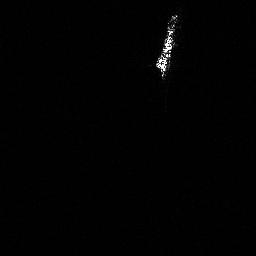ship: (152, 10, 183, 82)
